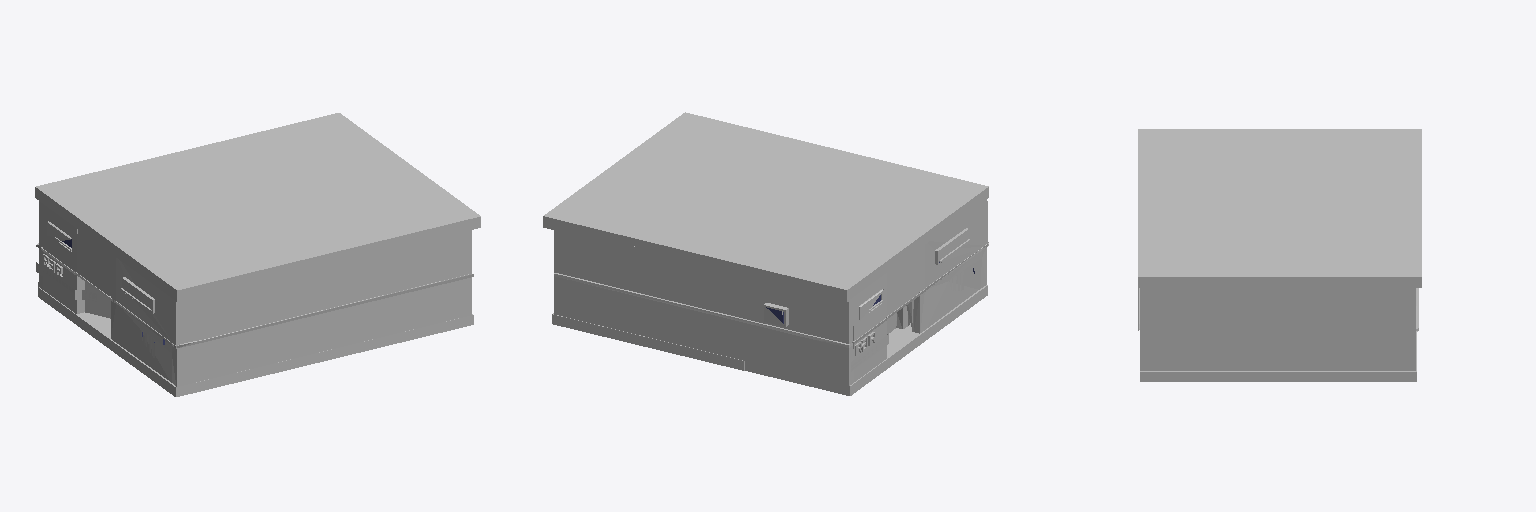
File: GaleriaRGR.obj
The picture shows the model from 3 angles: view 1: azimuth 30°, elevation 25°; view 2: azimuth 150°, elevation 25°; view 3: azimuth 270°, elevation 25°; orthographic projection.
Parts seen in each view (by area): view 1: TechoFuera, Casa, Piso, LineaExtDer, Marco; view 2: TechoFuera, Casa, Piso, LíneaIzq; view 3: TechoFuera, Casa, Piso.
Part boxes in pixels (x1,y1,x2,y2): TechoFuera: (35,113,480,301); Casa: (38,201,471,386); Piso: (38,287,473,396); LineaExtDer: (118,274,473,348); Marco: (36,262,96,303); TechoFuera: (543,112,988,301); Casa: (554,200,988,386); Piso: (552,285,987,395); LíneaIzq: (554,273,852,347); TechoFuera: (1138,129,1421,287); Casa: (1139,288,1418,370); Piso: (1140,332,1416,381).
Bounding box in the file's own units: 64.44 × 21.61 × 51.53.